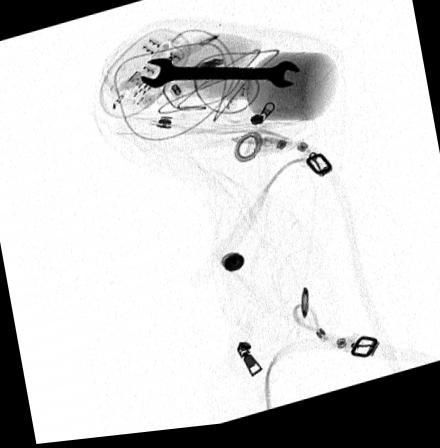Wrench: (138, 59, 299, 94)
